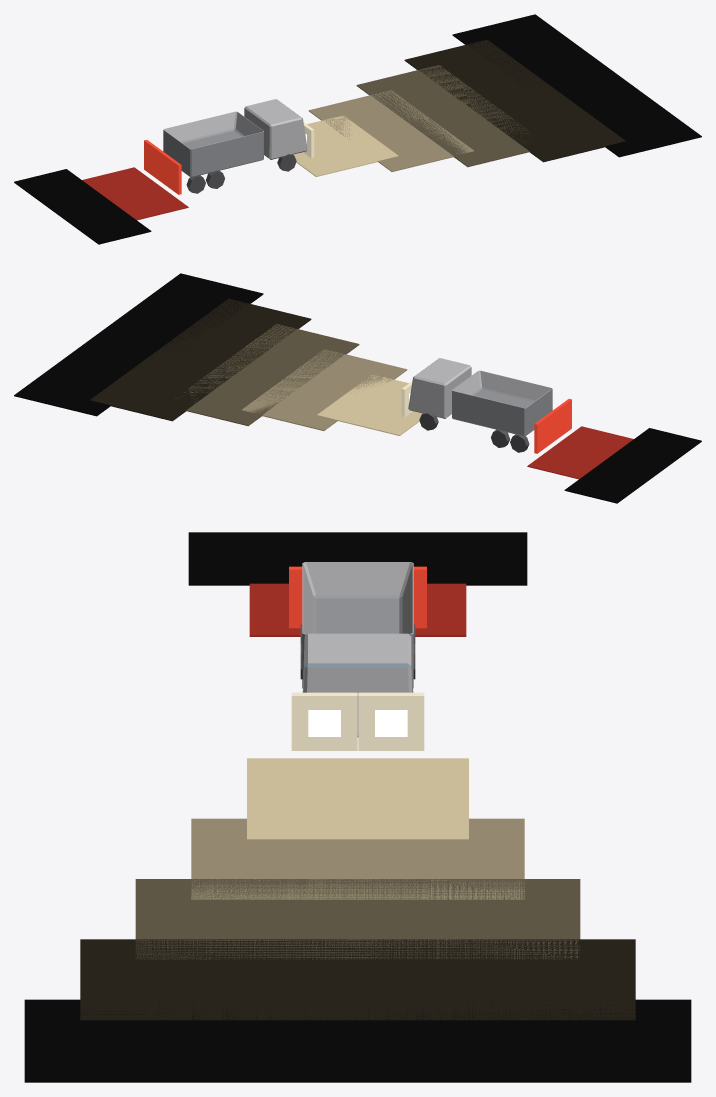
The model's file is veh_rigid_tipper.glb.
3 views of the same model, one above another, from view 1: azimuth 30°, elevation 25°; view 2: azimuth 150°, elevation 25°; view 3: azimuth 270°, elevation 25° (orthographic). The views are drawn at different scales.
Parts seen in each view (by area): view 1: veh_rigid_tipper; view 2: veh_rigid_tipper; view 3: veh_rigid_tipper.
Part boxes in pixels (left/top/right/bottom): veh_rigid_tipper: left=14, top=14, right=701, bottom=244; veh_rigid_tipper: left=14, top=273, right=701, bottom=503; veh_rigid_tipper: left=24, top=532, right=691, bottom=1082.
Bounding box in the file's own units: 2.45 × 0.207 × 1.26.
